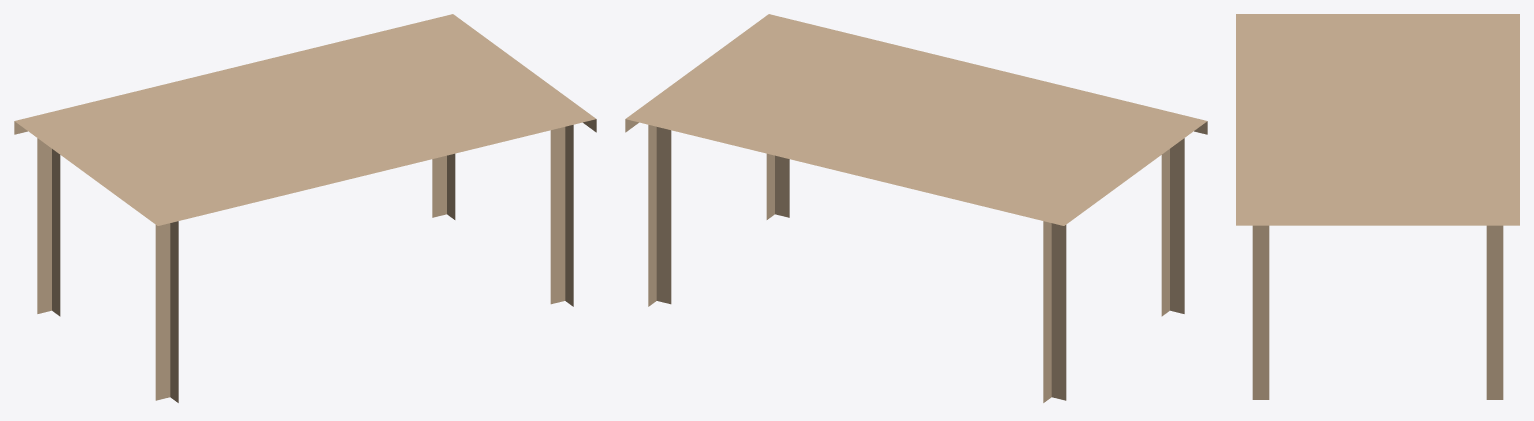
Rendered from dining_table.glb.
3 renders of one model, left to right at view 1: azimuth 30°, elevation 25°; view 2: azimuth 150°, elevation 25°; view 3: azimuth 270°, elevation 25°, orthographic.
Parts seen in each view (by area): view 1: RootNode; view 2: RootNode; view 3: RootNode.
Part boxes in pixels (x1=…): RootNode: x1=14, y1=14, x2=596, y2=402; RootNode: x1=625, y1=14, x2=1207, y2=402; RootNode: x1=1236, y1=14, x2=1519, y2=399.
Bounding box in the file's own units: 6 × 2.49 × 3.4.
